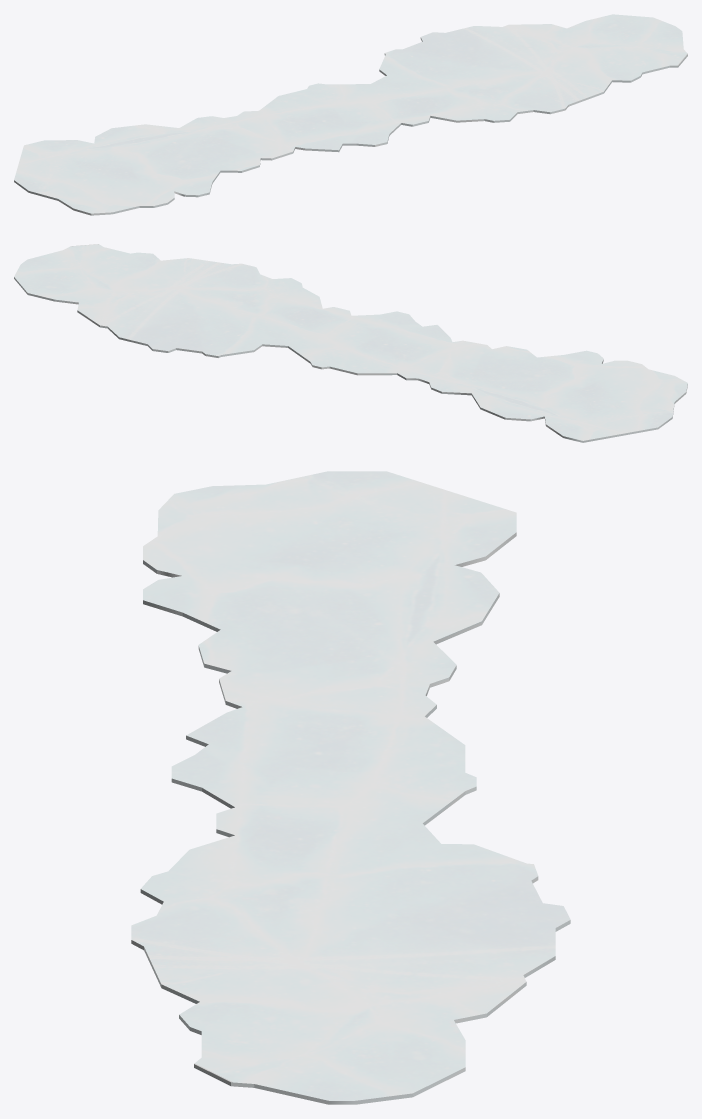
Rendered from ice planebig.fbx.
3 renders of one model, top to bottom at view 1: azimuth 30°, elevation 25°; view 2: azimuth 150°, elevation 25°; view 3: azimuth 270°, elevation 25°, orthographic. The views are drawn at different scales.
Parts seen in each view (by area): view 1: pasted__pCube1; view 2: pasted__pCube1; view 3: pasted__pCube1.
Part boxes in pixels (x1,y1,x2,y2): pasted__pCube1: (14,14,687,215); pasted__pCube1: (14,244,687,442); pasted__pCube1: (131,471,570,1104).
Size of the model in its own units: 9.27 by 0.0271 by 2.74.
1 material, 1 textured.
